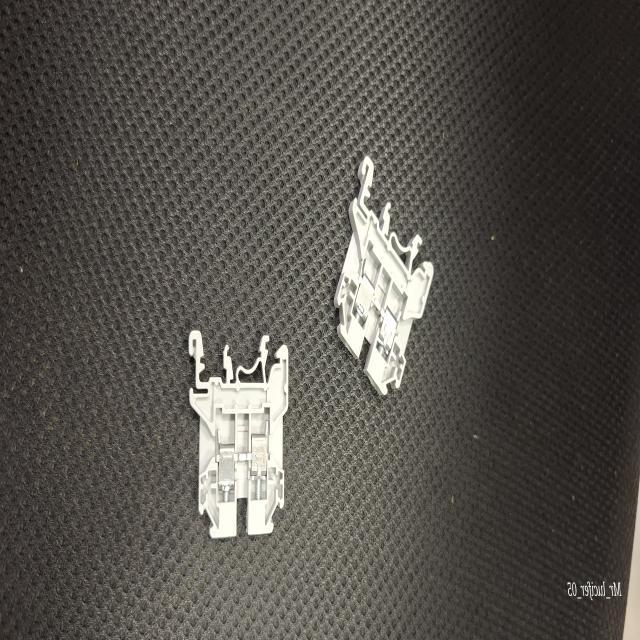Pass: (332, 154, 434, 400), (188, 326, 291, 542)
